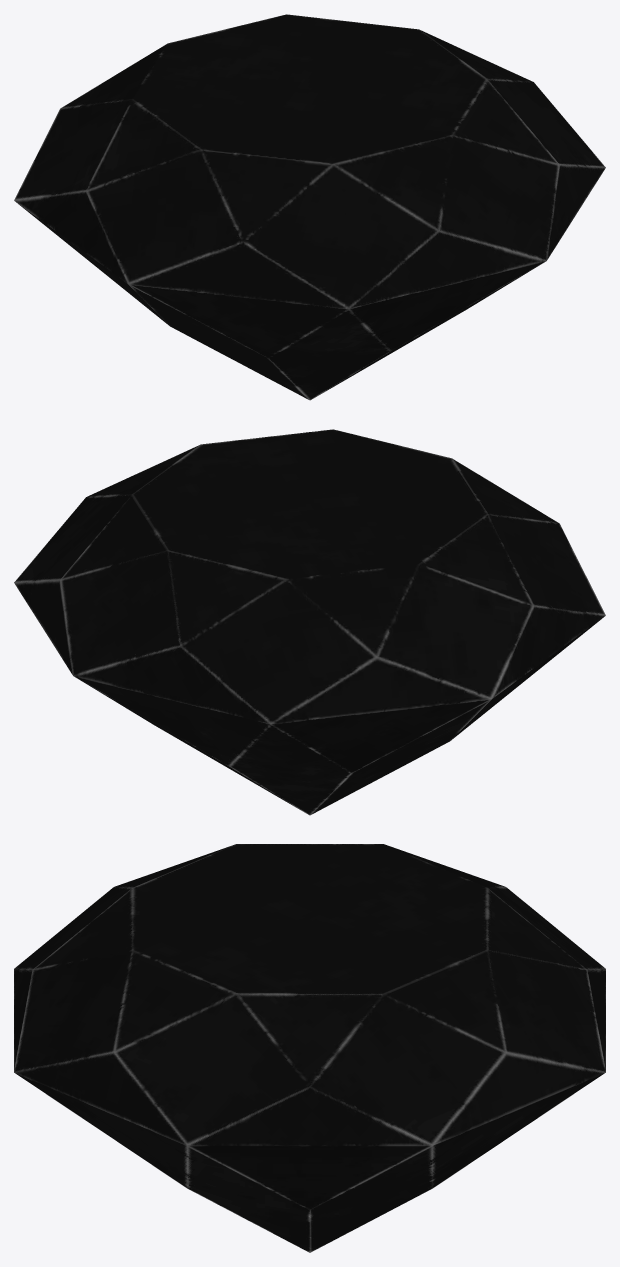
File: green_gem.glb
3 views of the same model, one above another, from view 1: azimuth 30°, elevation 25°; view 2: azimuth 150°, elevation 25°; view 3: azimuth 270°, elevation 25° (orthographic). The views are drawn at different scales.
Parts seen in each view (by area): view 1: defaultMaterial; view 2: defaultMaterial; view 3: defaultMaterial.
Part boxes in pixels (x1,y1,x2,y2): defaultMaterial: [14, 14, 605, 400]; defaultMaterial: [14, 429, 605, 815]; defaultMaterial: [14, 844, 605, 1252].
Size of the model in its own units: 2 by 1.24 by 2.
Materials: 1 (1 with a texture image).
